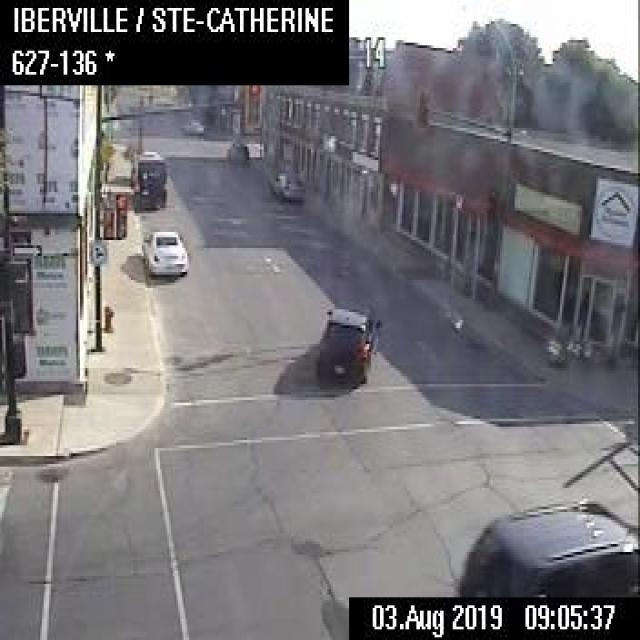vehicle: (455, 496, 638, 595), (316, 303, 380, 386), (142, 227, 189, 277), (130, 172, 166, 207), (268, 170, 303, 201), (133, 149, 164, 181), (225, 139, 248, 165), (182, 117, 203, 134)
